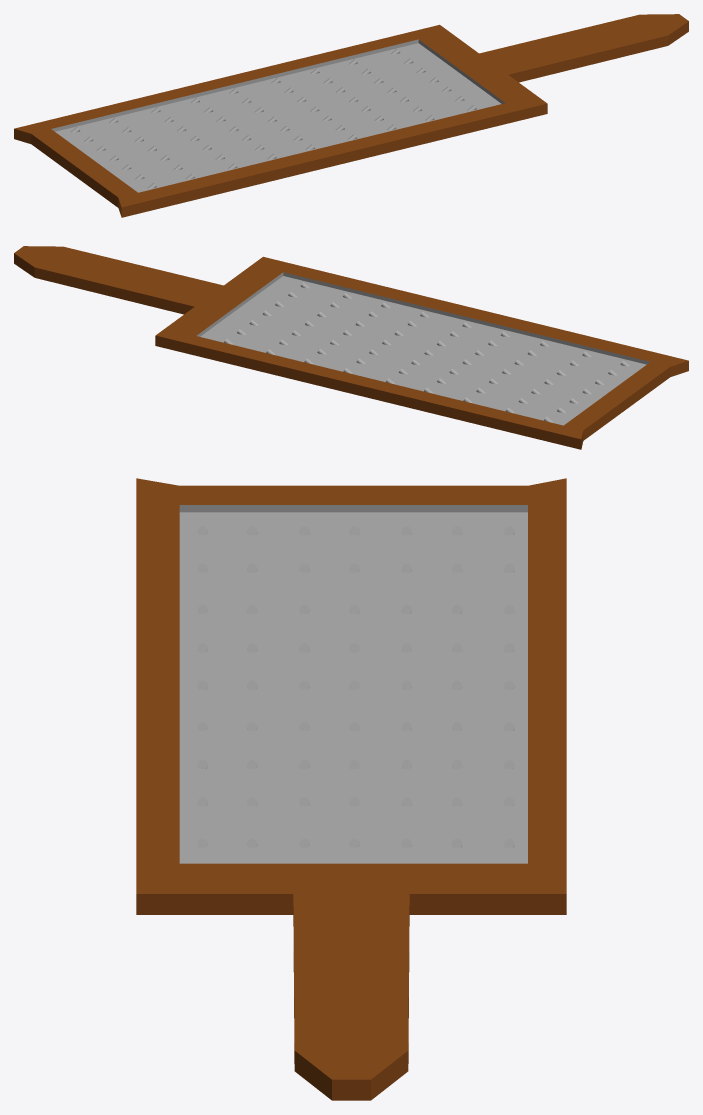
The model's file is Grater_V02.fbx.
3 renders of one model, top to bottom at view 1: azimuth 30°, elevation 25°; view 2: azimuth 150°, elevation 25°; view 3: azimuth 270°, elevation 25°, orthographic. The views are drawn at different scales.
Parts seen in each view (by area): view 1: Grater; view 2: Grater; view 3: Grater.
Boxes of the visible parts, x1,y1,x2,y2 form: Grater: (14, 14, 688, 217); Grater: (14, 246, 688, 449); Grater: (136, 478, 566, 1100).
Size of the model in its own units: 249 by 4.03 by 75.17.
